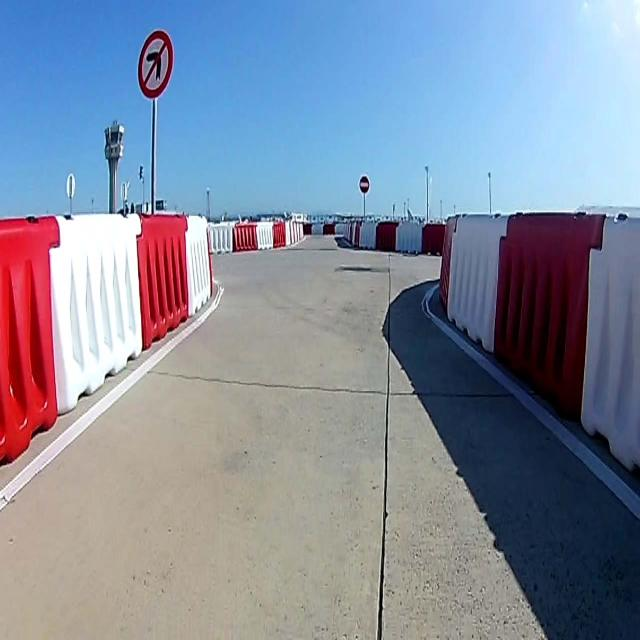girisyok: (357, 172, 371, 195)
soladonulmez: (137, 30, 174, 96)
